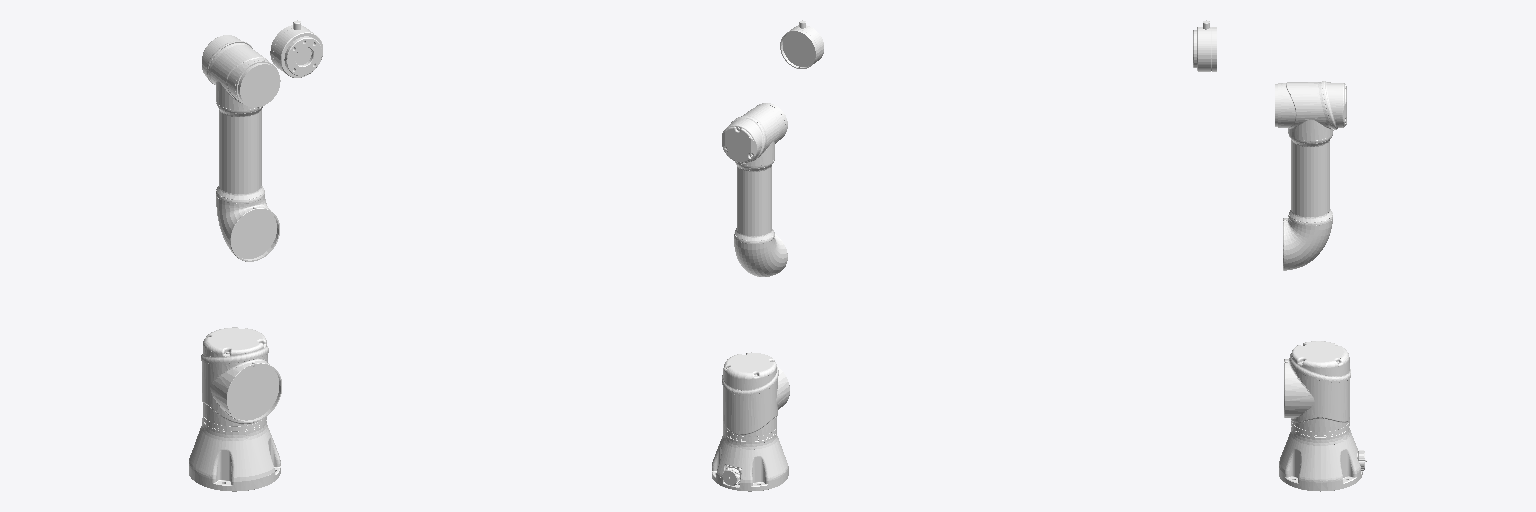
URDF robot description (aubo_C3):
<?xml version="1.0"?>
<robot name="aubo_C3">
  <dh_type type="modified"/>
  <safety_para singularity_consistent="0.02 0.01 10 0.2 0.045 10"/>
  <friction_coeff value="0.5"/>
  <link name="aubo_base">
    <inertial>
      <origin xyz="0.000149 -0.0004 0.0346" rpy="0 0 0" />
      <mass value="1.365846" />
      <inertia ixx="0.002801" ixy="-0.000001" ixz="0.000002" iyy="0.002763" iyz="0.000011" izz="0.003837" />
    </inertial>
    <visual>
      <origin xyz="0 0 0" rpy="0 0 0" />
      <geometry>
        <mesh filename="package://aubo_description/meshes/aubo_C3/visual/link0.DAE" />
      </geometry>
      <material name="">
        <color rgba="1 1 1 1" />
      </material>
    </visual>
    <collision>
      <origin xyz="0 0 0" rpy="0 0 0" />
      <geometry>
        <mesh filename="package://aubo_description/meshes/aubo_C3/collision/link0.STL" />
      </geometry>
    </collision>
  </link>

  <link name="shoulder_Link">
    <inertial>
      <origin xyz="-0.000016 0.001852 -0.015716" rpy="0 0 0" />
      <mass value="3.2573" />
      <inertia ixx="0.005717" ixy="0.000001" ixz="0.000004" iyy="0.005636" iyz="-0.000131" izz="0.003863" />
    </inertial>
    <visual>
      <origin xyz="0 0 0" rpy="0 0 0" />
      <geometry>
        <mesh filename="package://aubo_description/meshes/aubo_C3/visual/link1.DAE" />
      </geometry>
      <material name="">
        <color rgba="1 1 1 1" />
      </material>
    </visual>
    <collision>
      <origin xyz="0 0 0" rpy="0 0 0" />
      <geometry>
        <mesh filename="package://aubo_description/meshes/aubo_C3/collision/link1.STL" />
      </geometry>
    </collision>
  </link>

  <joint name="shoulder_joint" type="revolute">
    <origin xyz="0 0 0.157" rpy="0 0 3.1415926535897932384626433832795" />
    <parent link="aubo_base" />
    <child link="shoulder_Link" />
    <axis xyz="0 0 1" />
    <limit lower="-3.05" upper="3.05" effort="61" start_stop="102" velocity="3.1104877758314784539234092903757" />
    <property inertia="0" damping="0" stiffness="0" offset="0" motor_constant="7.03" ratio="101" protect_max_torque="50.0" equa_inertia="0.5" collision_detection_para = "50 50 30 20"/>
  </joint>

  <link name="upperArm_Link">
    <inertial>
      <origin xyz="0.113925 -0.000006 -0.006424" rpy="0 0 0" />
      <mass value="6.116851" />
      <inertia ixx="0.009999" ixy="0.000018" ixz="-0.000214" iyy="0.106325" iyz="0.000003" izz="0.102883" />
    </inertial>
    <visual>
      <origin xyz="0 0 0" rpy="0 0 0" />
      <geometry>
        <mesh filename="package://aubo_description/meshes/aubo_C3/visual/link2.DAE" />
      </geometry>
      <material name="">
        <color rgba="1 1 1 1" />
      </material>
    </visual>
    <collision>
      <origin xyz="0 0 0" rpy="0 0 0" />
      <geometry>
        <mesh filename="package://aubo_description/meshes/aubo_C3/collision/link2.STL" />
      </geometry>
    </collision>
  </link>

  <joint name="upperArm_joint" type="revolute">
    <origin xyz="0 0.119 0" rpy="-1.5707963267948966192313216916398 -1.5707963267948966192313216916398 0" />
    <parent link="shoulder_Link" />
    <child link="upperArm_Link" />
    <axis xyz="0 0 1" />
    <limit lower="-3.05" upper="3.05" effort="61" start_stop="102" velocity="3.1104877758314784539234092903757" />
    <property inertia="0" damping="0" stiffness="0" offset="0" motor_constant="7.03" ratio="101" protect_max_torque="50.0" equa_inertia="0.5" collision_detection_para = "50 50 30 20"/>
  </joint>

  <link name="foreArm_Link">
    <inertial>
      <origin xyz="0.201115 -0.000036 0.093625" rpy="0 0 0" />
      <mass value="2.351523" />
      <inertia ixx="0.00276" ixy="0.000003" ixz="0.000301" iyy="0.022363" iyz="0.000004" izz="0.021553" />
    </inertial>
    <visual>
      <origin xyz="0 0 0" rpy="0 0 0" />
      <geometry>
        <mesh filename="package://aubo_description/meshes/aubo_C3/visual/link3.DAE" />
      </geometry>
      <material name="">
        <color rgba="1 1 1 1" />
      </material>
    </visual>
    <collision>
      <origin xyz="0 0 0" rpy="0 0 0" />
      <geometry>
        <mesh filename="package://aubo_description/meshes/aubo_C3/collision/link3.STL" />
      </geometry>
    </collision>
  </link>

  <joint name="foreArm_joint" type="revolute">
    <origin xyz="0.266 0 0" rpy="-3.1415926535897932384626433832795 0 0" />
    <parent link="upperArm_Link" />
    <child link="foreArm_Link" />
    <axis xyz="0 0 1" />
    <limit lower="-3.05" upper="3.05" effort="49" start_stop="66" velocity="3.1104877758314784539234092903757" />
    <property inertia="0" damping="0" stiffness="0" offset="0" motor_constant="6.07" ratio="101" protect_max_torque="30.0" equa_inertia="0.25" collision_detection_para = "50 50 30 20"/>
  </joint>

  <link name="wrist1_Link">
    <inertial>
      <origin xyz="0.000038 0.011278 -0.001539" rpy="0 0 0" />
      <mass value="1.628022" />
      <inertia ixx="0.001951" ixy="0.000003" ixz="0.000001" iyy="0.001154" iyz="-0.000042" izz="0.001931" />
    </inertial>
    <visual>
      <origin xyz="0 0 0" rpy="0 0 0" />
      <geometry>
        <mesh filename="package://aubo_description/meshes/aubo_C3/visual/link4.DAE" />
      </geometry>
      <material name="">
        <color rgba="1 1 1 1" />
      </material>
    </visual>
    <collision>
      <origin xyz="0 0 0" rpy="0 0 0" />
      <geometry>
        <mesh filename="package://aubo_description/meshes/aubo_C3/collision/link4.STL" />
      </geometry>
    </collision>
  </link>

  <joint name="wrist1_joint" type="revolute">
    <origin xyz="0.2565 0 0" rpy="3.1415926535897932384626433832795 0 1.5707963267948966192313216916398" />
    <parent link="foreArm_Link" />
    <child link="wrist1_Link" />
    <axis xyz="0 0 1" />
    <limit lower="-3.05" upper="3.05" effort="13.5" start_stop="34" velocity="3.1104877758314784539234092903757" />
    <property inertia="0" damping="0" stiffness="0" offset="0" motor_constant="5.895" ratio="101" protect_max_torque="8.0" equa_inertia="0.05" collision_detection_para = "50 50 30 20"/>
  </joint>

  <link name="wrist2_Link">
    <inertial>
      <origin xyz="-0.000038 -0.011278 -0.001539" rpy="0 0 0" />
      <mass value="1.628022" />
      <inertia ixx="0.001951" ixy="0.000003" ixz="-0.000001" iyy="0.001154" iyz="0.000042" izz="0.001931" />
    </inertial>
    <visual>
      <origin xyz="0 0 0" rpy="0 0 0" />
      <geometry>
        <mesh filename="package://aubo_description/meshes/aubo_C3/visual/link5.DAE" />
      </geometry>
      <material name="">
        <color rgba="1 1 1 1" />
      </material>
    </visual>
    <collision>
      <origin xyz="0 0 0" rpy="0 0 0" />
      <geometry>
        <mesh filename="package://aubo_description/meshes/aubo_C3/collision/link5.STL" />
      </geometry>
    </collision>
  </link>

  <joint name="wrist2_joint" type="revolute">
    <origin xyz="0 0.1025 0" rpy="-1.5707963267948966192313216916398 0 0" />
    <parent link="wrist1_Link" />
    <child link="wrist2_Link" />
    <axis xyz="0 0 1" />
    <limit lower="-3.05" upper="3.05" effort="13.5" start_stop="34" velocity="3.1104877758314784539234092903757" />
    <property inertia="0" damping="0" stiffness="0" offset="0" motor_constant="5.895" ratio="101" protect_max_torque="8.0" equa_inertia="0.05" collision_detection_para = "50 50 30 20"/>
  </joint>

  <link name="wrist3_Link">
    <inertial>
      <origin xyz="0.000022 0.0006 -0.017081" rpy="0 0 0" />
      <mass value="0.1978" />
      <inertia ixx="0.000118" ixy="0" ixz="0" iyy="0.000112" iyz="0.000001" izz="0.000184" />
    </inertial>
    <visual>
      <origin xyz="0 0 0" rpy="0 0 0" />
      <geometry>
        <mesh filename="package://aubo_description/meshes/aubo_C3/visual/link6.DAE" />
      </geometry>
      <material name="">
        <color rgba="1 1 1 1" />
      </material>
    </visual>
    <collision>
      <origin xyz="0 0 0" rpy="0 0 0" />
      <geometry>
        <mesh filename="package://aubo_description/meshes/aubo_C3/collision/link6.STL" />
      </geometry>
    </collision>
  </link>

  <joint name="wrist3_joint" type="revolute">
    <origin xyz="0 -0.094 0" rpy="1.5707963267948966192313216916398 0 0" />
    <parent link="wrist2_Link" />
    <child link="wrist3_Link" />
    <axis xyz="0 0 1" />
    <limit lower="-3.05" upper="3.05" effort="13.5" start_stop="34" velocity="3.1104877758314784539234092903757" />
    <property inertia="0" damping="0" stiffness="0" offset="0" motor_constant="5.895" ratio="101" protect_max_torque="1.0" equa_inertia="0.01" collision_detection_para = "50 50 30 20"/>
  </joint>

  <link name="world" />

  <joint name="world_joint" type="fixed">
    <parent link="world" />
    <child link = "aubo_base" />
    <origin xyz="0.0 0.0 0.0" rpy="0.0 0.0 0.0" />
  </joint>
</robot>

--- Render facts (derived) ---
Views: 3 orthographic renders of the robot side by side, from view 1: azimuth 30°, elevation 25°; view 2: azimuth 150°, elevation 25°; view 3: azimuth 270°, elevation 25°.
Model aubo_C3 with 8 links and 7 joints (6 revolute, 1 fixed), rooted at world, posed every joint at zero.
Links seen in each view (by area): view 1: foreArm_Link, shoulder_Link, aubo_base, wrist3_Link; view 2: foreArm_Link, shoulder_Link, aubo_base, wrist3_Link; view 3: foreArm_Link, shoulder_Link, aubo_base, wrist3_Link.
Link boxes in pixels (x1,y1,x2,y2): foreArm_Link: [202, 35, 280, 261]; shoulder_Link: [201, 327, 281, 431]; aubo_base: [189, 418, 280, 491]; wrist3_Link: [270, 20, 322, 77]; foreArm_Link: [722, 103, 787, 276]; shoulder_Link: [722, 352, 789, 441]; aubo_base: [712, 432, 788, 491]; wrist3_Link: [780, 20, 823, 68]; foreArm_Link: [1275, 81, 1346, 270]; shoulder_Link: [1284, 341, 1350, 436]; aubo_base: [1279, 426, 1366, 491]; wrist3_Link: [1193, 20, 1216, 71].
Bounding box of the posed robot: 0.14 × 0.2902 × 0.8326 m (x, y, z).
4 mesh visuals loaded from 7 distinct referenced files (4 Collada DAE); not drawn: 3 (reference not matched to a file when rendering).